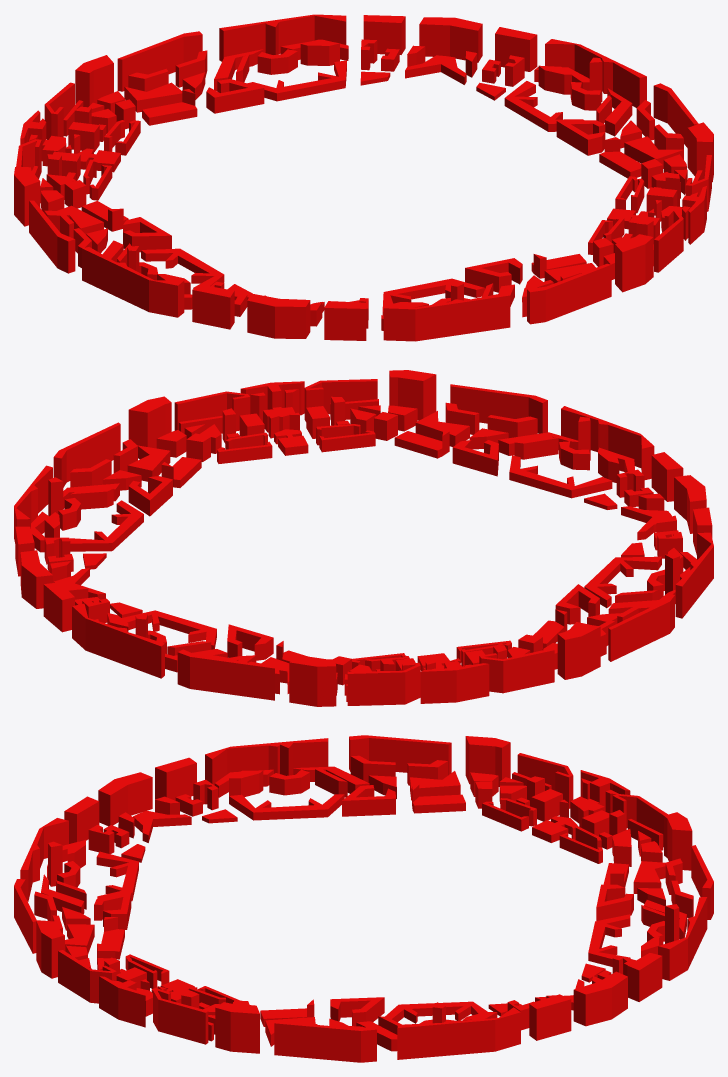
The model's file is Top_Floor_Detached.fbx.
3 renders of one model, top to bottom at view 1: azimuth 30°, elevation 25°; view 2: azimuth 150°, elevation 25°; view 3: azimuth 270°, elevation 25°, orthographic.
Visible parts, largest first — view 1: Object458, Object479, Object532, Object452, Object397, Object470, Object524, Object399, Object446, Object487, Object466, Object474 (+43 smaller); view 2: Object524, Object532, Object512, Object458, Object452, Object504, Object487, Object498, Object520, Object412, Object491, Object446 (+48 smaller); view 3: Object397, Object412, Object479, Object487, Object399, Object470, Object419, Object427, Object431, Object532, Object491, Object476 (+47 smaller).
Part boxes in pixels (x1,y1,x2,y2): Object458: [383, 292, 510, 341]; Object479: [82, 247, 184, 317]; Object532: [219, 14, 346, 61]; Object452: [527, 263, 611, 324]; Object397: [545, 39, 646, 107]; Object470: [247, 293, 310, 338]; Object524: [117, 31, 202, 91]; Object399: [419, 17, 482, 62]; Object446: [615, 234, 653, 292]; Object487: [29, 200, 75, 273]; Object466: [324, 301, 366, 340]; Object474: [192, 284, 234, 329]; Object524: [177, 649, 274, 700]; Object532: [72, 603, 164, 678]; Object512: [347, 662, 420, 705]; Object458: [561, 406, 654, 479]; Object452: [450, 384, 547, 433]; Object504: [420, 661, 489, 703]; Object487: [608, 593, 674, 661]; Object498: [479, 648, 554, 693]; Object520: [289, 655, 336, 706]; Object412: [53, 422, 120, 487]; Object491: [557, 623, 600, 679]; Object446: [389, 370, 436, 420]; Object397: [397, 1007, 520, 1059]; Object412: [274, 1021, 376, 1062]; Object479: [205, 738, 328, 785]; Object487: [349, 735, 451, 775]; Object399: [573, 971, 627, 1026]; Object470: [98, 772, 152, 826]; Object419: [215, 1002, 259, 1053]; Object427: [153, 988, 208, 1044]; Object431: [99, 976, 152, 1027]; Object532: [658, 897, 707, 980]; Object491: [465, 736, 510, 786]; Object476: [229, 794, 344, 820].
Bounding box in the file's own units: 479 × 30 × 479.
